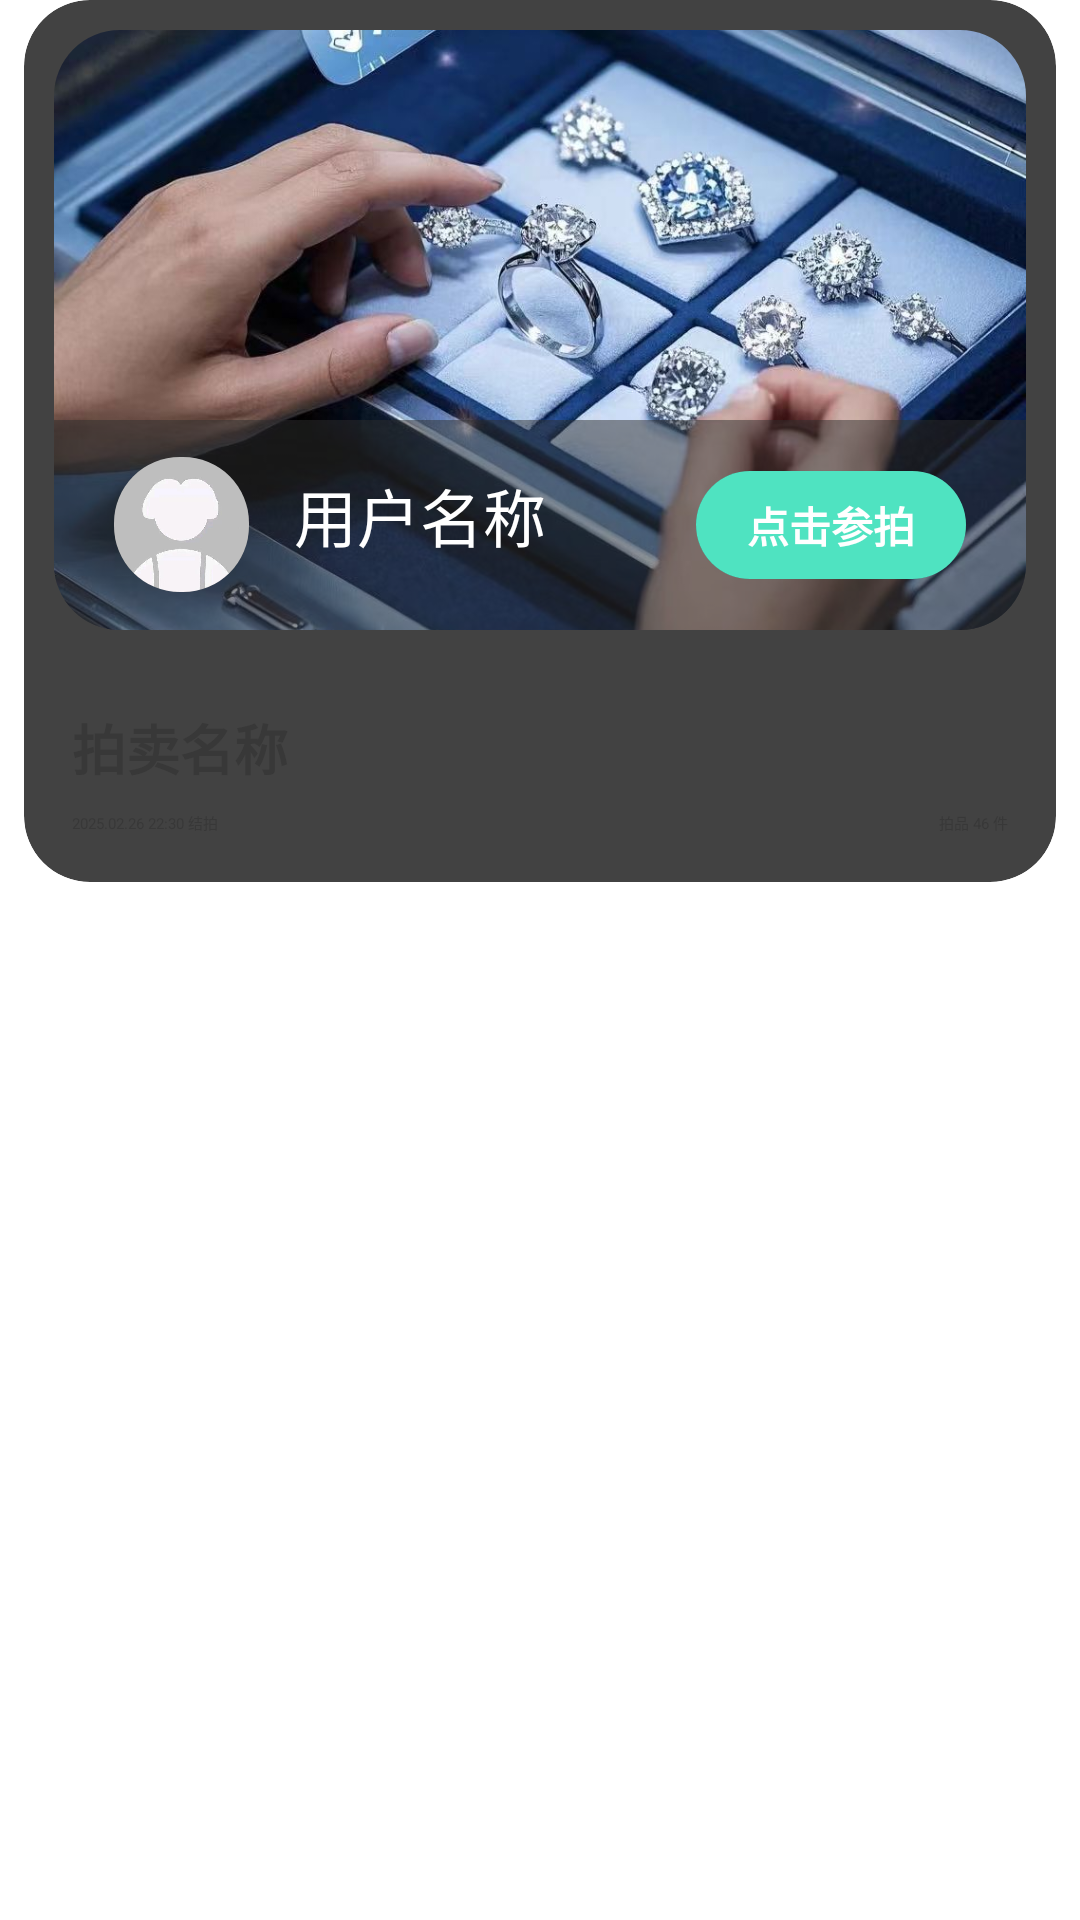

Icons on this 1080*1920 Android screen, each with the point to tap as point (x, y):
user: point (181, 524)
